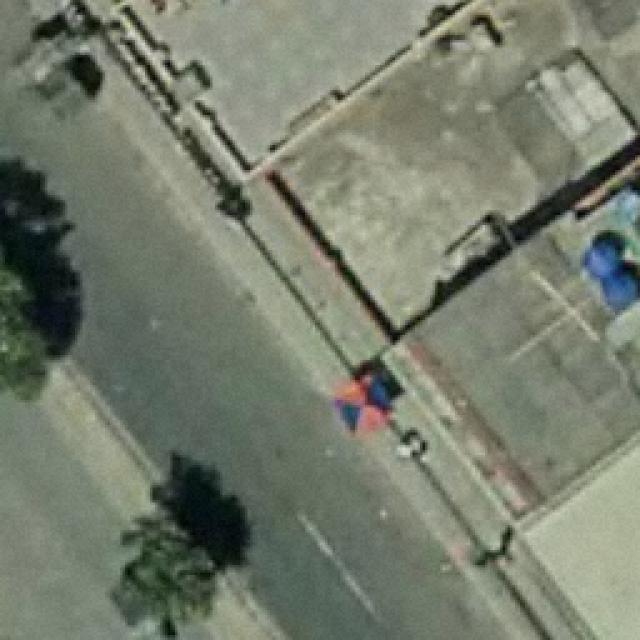vendedor_ambulante: (330, 373, 399, 437)
